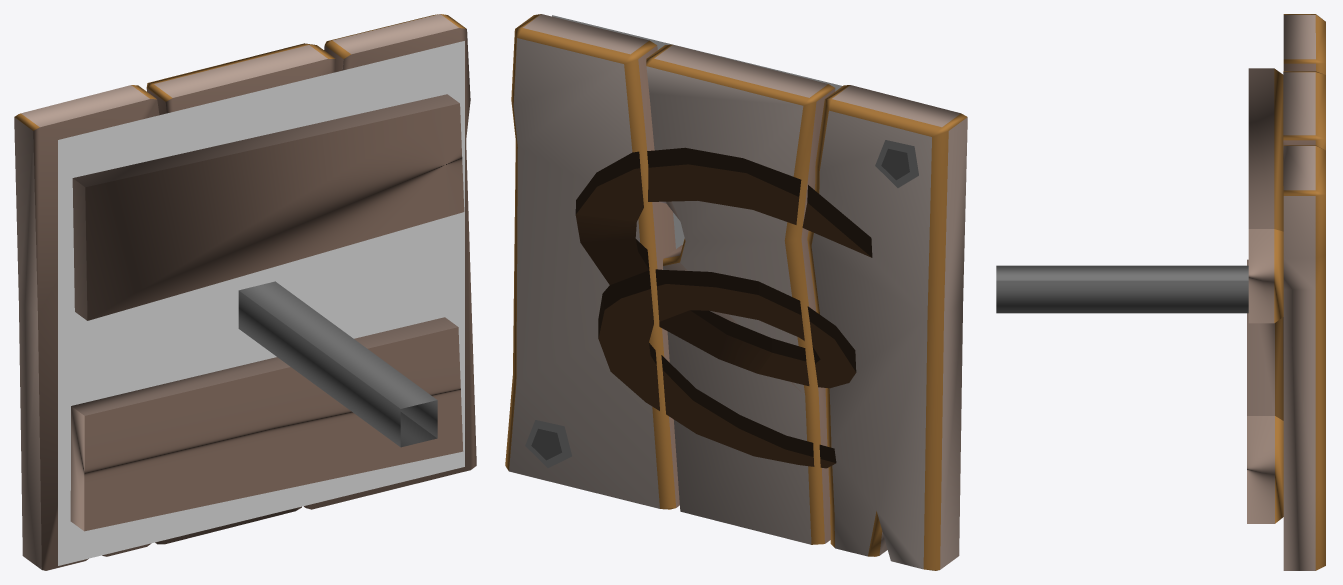
Rendered from SpringBoard.fbx.
3 views of the same model, side by side, from view 1: azimuth 30°, elevation 25°; view 2: azimuth 150°, elevation 25°; view 3: azimuth 270°, elevation 25° (orthographic). The views are drawn at different scales.
Parts seen in each view (by area): view 1: SpringBoard, SpringBoardHole; view 2: SpringBoard, SpringBoardHole; view 3: SpringBoard.
Part boxes in pixels (x1,y1,x2,y2): SpringBoard: (14, 14, 476, 570); SpringBoardHole: (58, 41, 464, 565); SpringBoard: (505, 14, 967, 570); SpringBoardHole: (552, 15, 842, 248); SpringBoard: (996, 14, 1325, 570).
Bounding box in the file's own units: 98.05 × 95.06 × 75.36.
